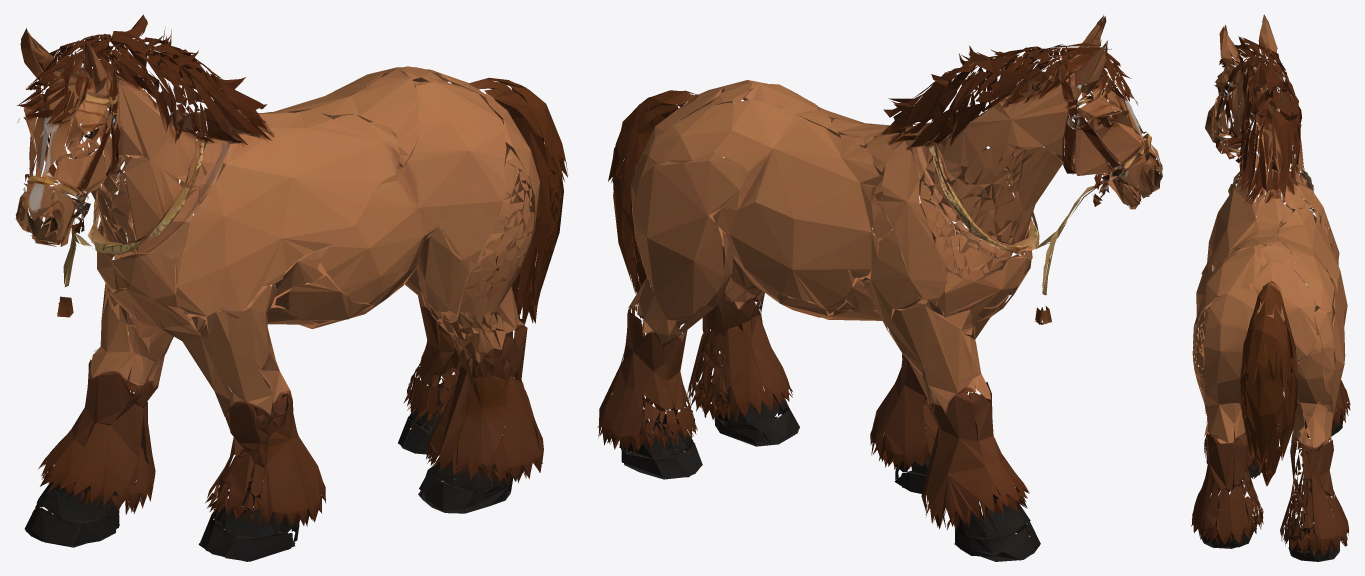
Rendered from horse.glb.
3 renders of one model, left to right at view 1: azimuth 30°, elevation 25°; view 2: azimuth 150°, elevation 25°; view 3: azimuth 270°, elevation 25°, orthographic. The views are drawn at different scales.
Parts seen in each view (by area): view 1: material; view 2: material; view 3: material.
Boxes of the visible parts, left/top/right/bottom form: material: left=15, top=14, right=567, bottom=561; material: left=597, top=15, right=1162, bottom=561; material: left=1191, top=14, right=1350, bottom=561.
Bounding box in the file's own units: 0.9955 × 0.9199 × 0.3472.
1 material, 1 textured.
